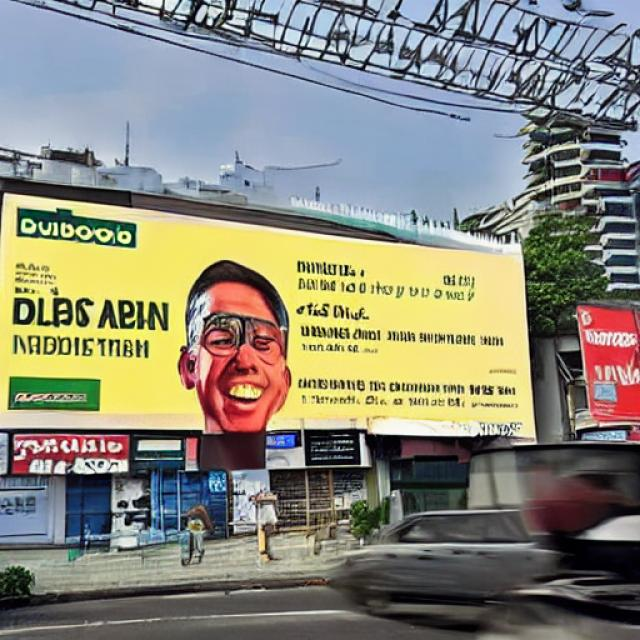Billboard: (0, 189, 538, 448)
